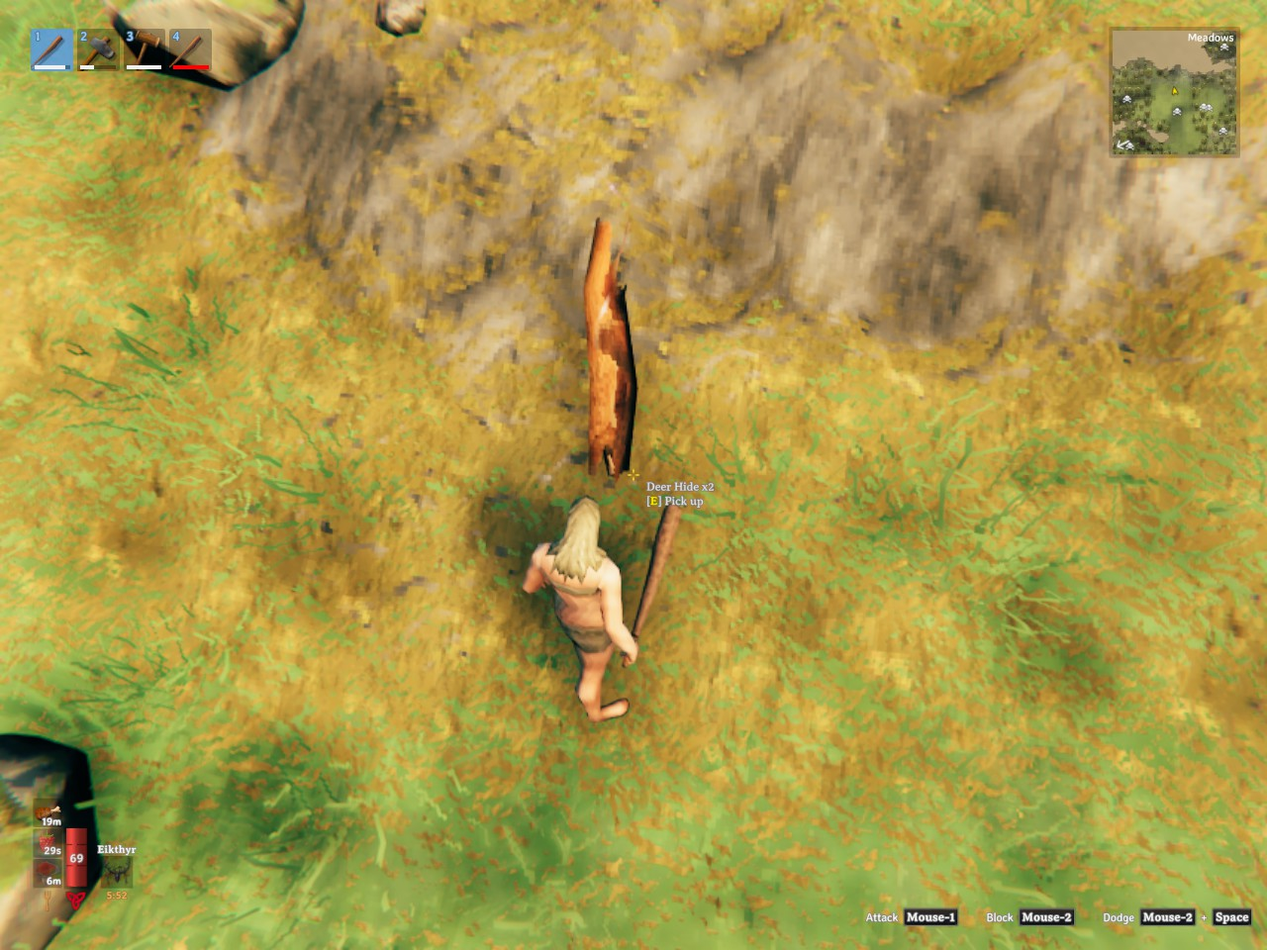Club: (633, 506, 681, 637)
Deer Hide: (584, 219, 636, 475)
Food Indicator: (36, 798, 63, 891)
Health Bar: (63, 824, 90, 891)
Hotbar: (25, 21, 398, 78)
